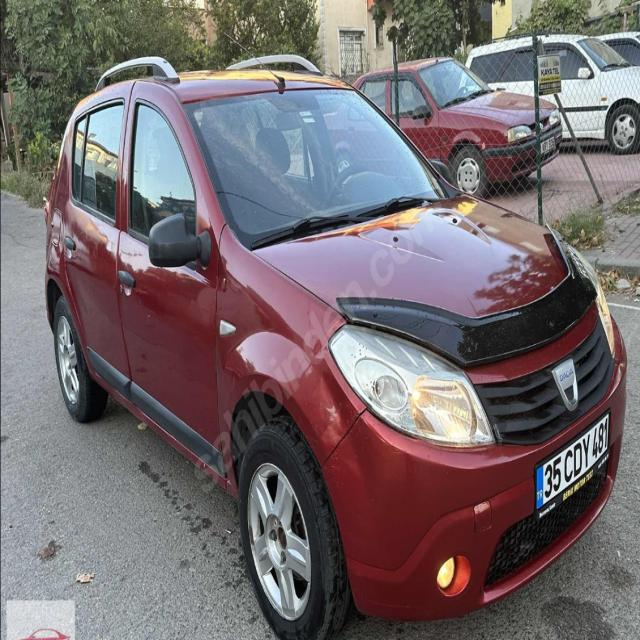dacia: (551, 355, 582, 417)
